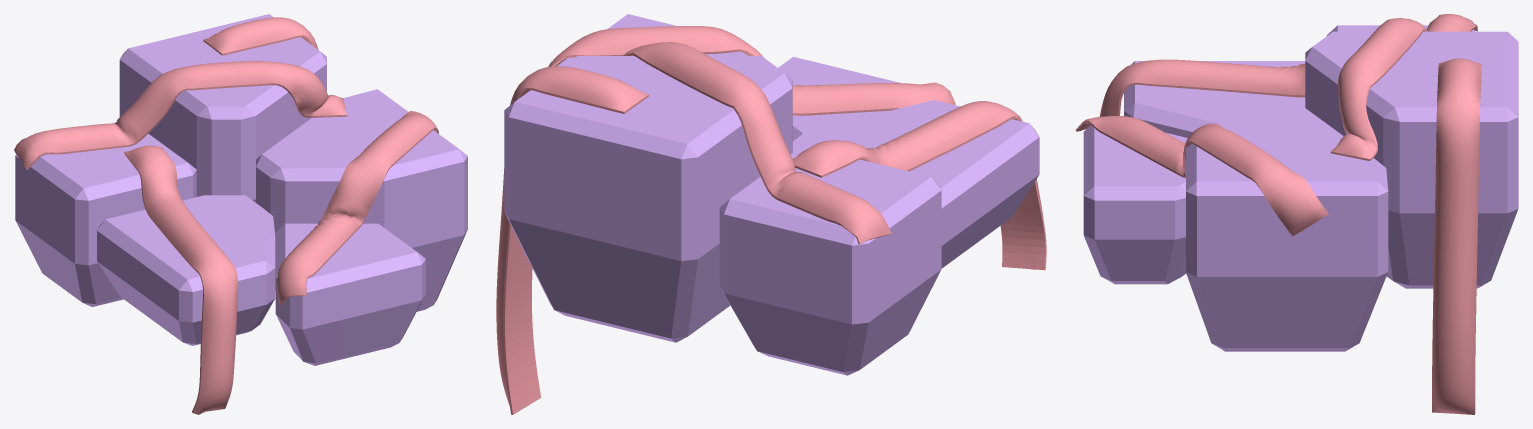
File: environment.glb
The picture shows the model from 3 angles, left to right: view 1: azimuth 30°, elevation 25°; view 2: azimuth 150°, elevation 25°; view 3: azimuth 270°, elevation 25°; orthographic projection. The views are drawn at different scales.
Visible parts, largest first — view 1: Object_4, Object_1, Object_6, Object_5, Object_3, Plane.010, Plane.008, Plane.006, Plane.011, Plane.005, Plane.009; view 2: Object_1, Object_3, Object_6, Plane.008, Plane.006, Plane.010, Plane.004, Plane.011, Plane.009, Object_5, Plane.005, Object_4 (+1 smaller); view 3: Object_4, Object_1, Plane.011, Object_5, Plane.006, Plane.008, Plane.010, Object_6, Plane.007, Plane.009, Plane.005.
Boxes of the visible parts, box(x1,y1,x2,y2) form: Object_4: box(256, 89, 467, 311); Object_1: box(119, 14, 326, 202); Object_6: box(97, 195, 275, 345); Object_5: box(275, 223, 425, 365); Object_3: box(15, 122, 196, 306); Plane.010: box(124, 145, 238, 414); Plane.008: box(14, 61, 346, 169); Plane.006: box(277, 111, 437, 304); Plane.011: box(203, 17, 318, 53); Plane.005: box(26, 83, 346, 169); Plane.009: box(124, 152, 203, 412); Object_1: box(504, 56, 792, 342); Object_3: box(719, 145, 941, 375); Object_6: box(792, 100, 1039, 268); Plane.008: box(623, 42, 891, 243); Plane.006: box(548, 26, 955, 113); Plane.010: box(792, 101, 1043, 270); Plane.004: box(503, 88, 648, 414); Plane.011: box(496, 66, 648, 406); Plane.009: box(795, 116, 1046, 270); Object_5: box(778, 56, 899, 140); Plane.005: box(625, 52, 890, 244); Object_4: box(557, 14, 747, 66); Object_4: box(1186, 99, 1388, 351); Object_1: box(1305, 31, 1518, 288); Plane.011: box(1432, 58, 1481, 414); Object_5: box(1083, 125, 1187, 284); Plane.006: box(1083, 116, 1328, 236); Plane.008: box(1331, 14, 1476, 158); Plane.010: box(1099, 59, 1305, 116); Object_6: box(1124, 61, 1305, 137); Plane.007: box(1075, 120, 1328, 213); Plane.009: box(1118, 82, 1305, 115); Plane.005: box(1330, 26, 1477, 160).
Bounding box in the file's own units: 40.3 × 32.25 × 40.97.
